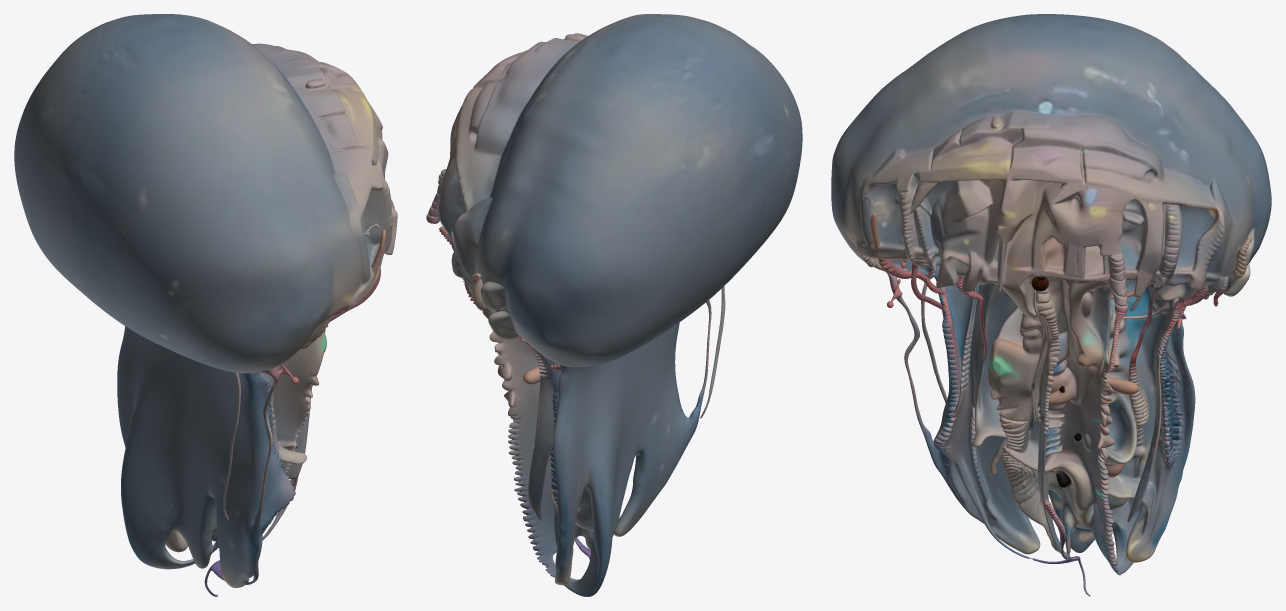
The model's file is comb_jelly.glb.
3 renders of one model, left to right at view 1: azimuth 30°, elevation 25°; view 2: azimuth 150°, elevation 25°; view 3: azimuth 270°, elevation 25°, orthographic. The views are drawn at different scales.
Visible parts, largest first — view 1: tripo_node_7001c999-0ac0-4d85-b889-87b7b02668ed; view 2: tripo_node_7001c999-0ac0-4d85-b889-87b7b02668ed; view 3: tripo_node_7001c999-0ac0-4d85-b889-87b7b02668ed.
Part boxes in pixels (<box>): tripo_node_7001c999-0ac0-4d85-b889-87b7b02668ed: <box>14,14,397,596</box>; tripo_node_7001c999-0ac0-4d85-b889-87b7b02668ed: <box>426,14,802,596</box>; tripo_node_7001c999-0ac0-4d85-b889-87b7b02668ed: <box>831,14,1271,596</box>.
Size of the model in its own units: 0.5291 by 0.9806 by 0.7161.
Materials: 1 (1 with a texture image).
